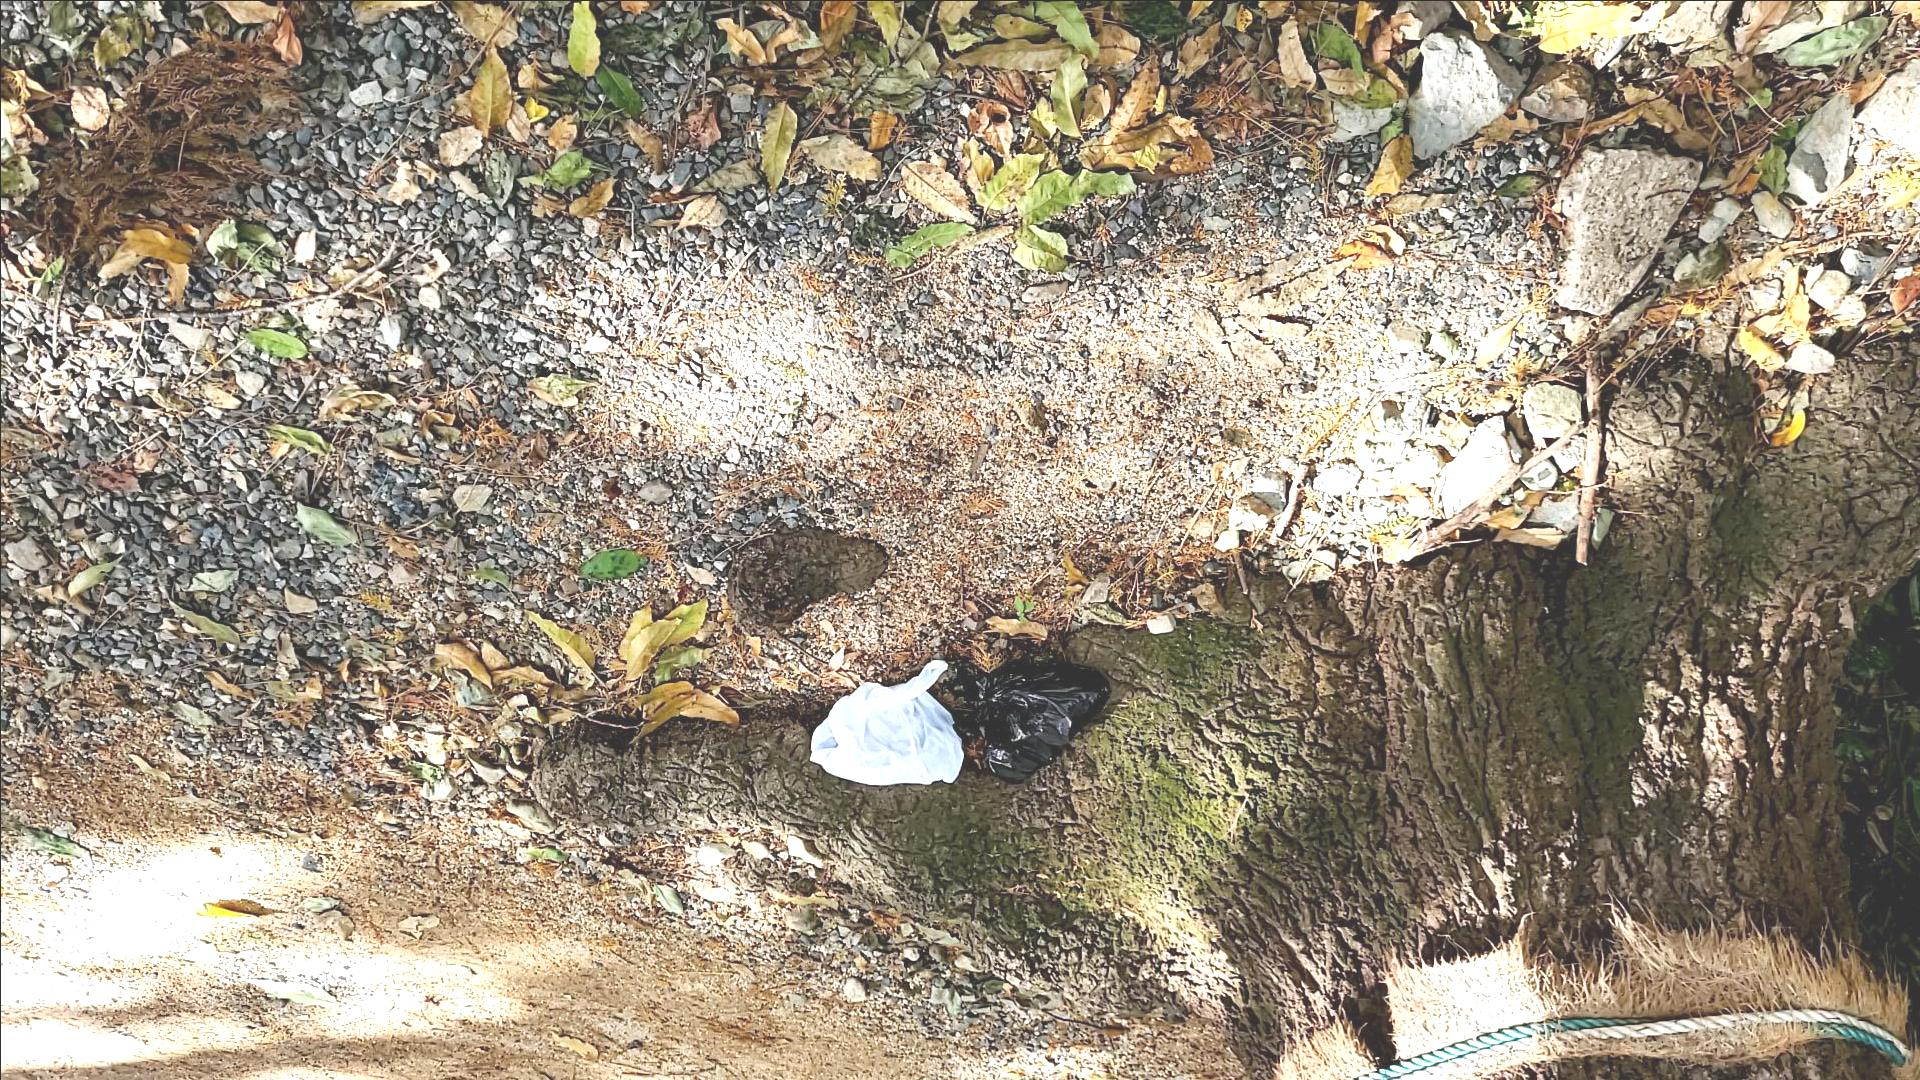black_bag: (947, 651, 1117, 795)
white_bag: (798, 638, 976, 804)
